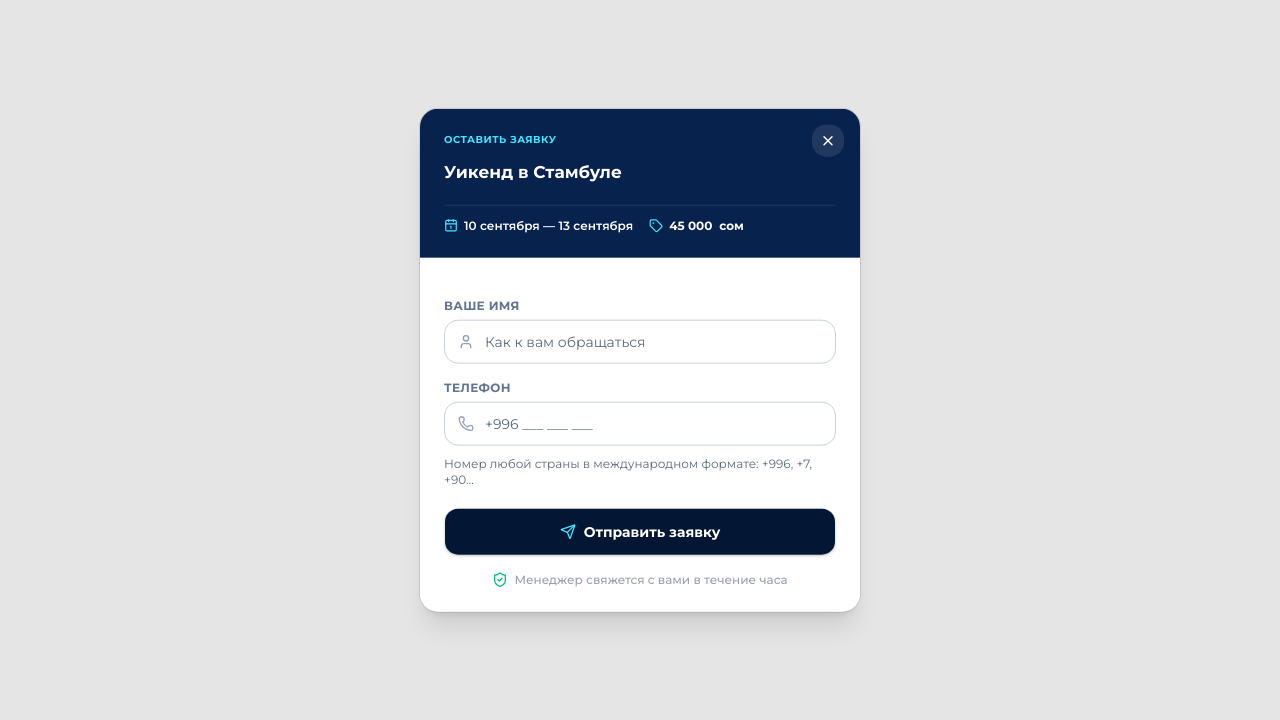
Test case: OrderCard › требует имя и телефон
Click the button "Отправить заявку" at (640,531), box [444,507,836,555]
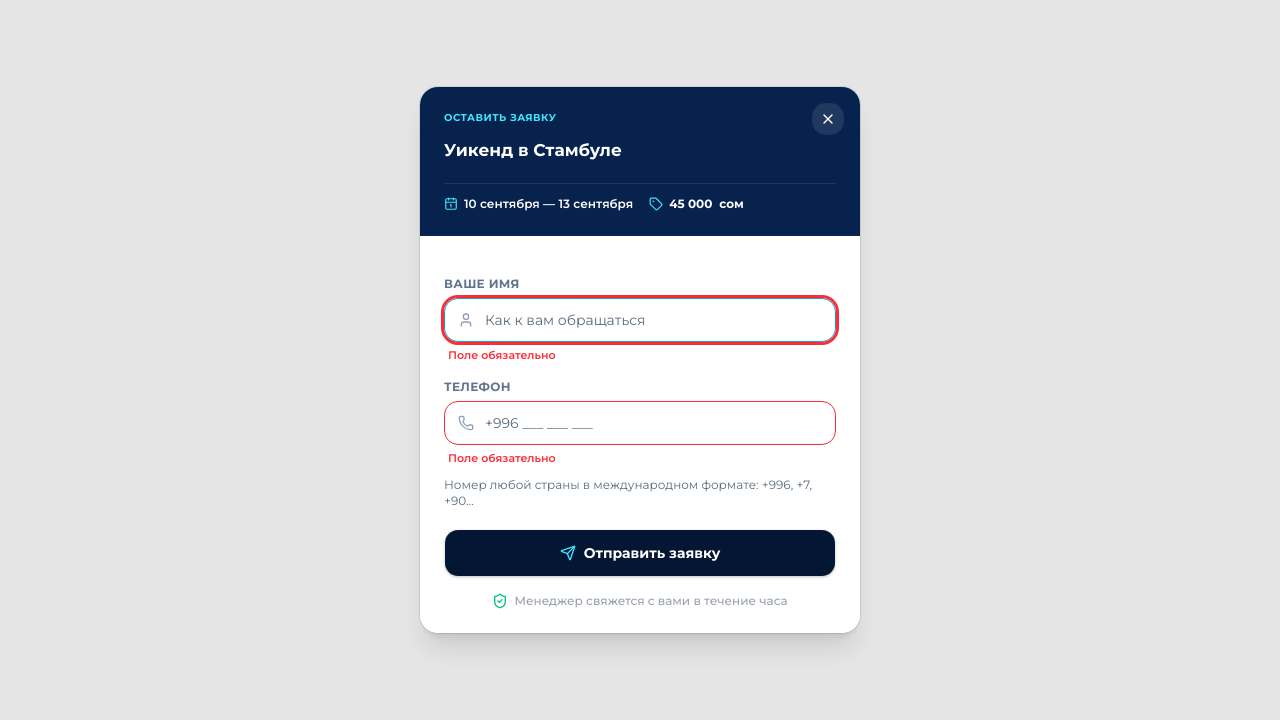
Now the text "Поле обязательно" is shown 2 times, box [448,348,556,362]; [448,451,556,465]
